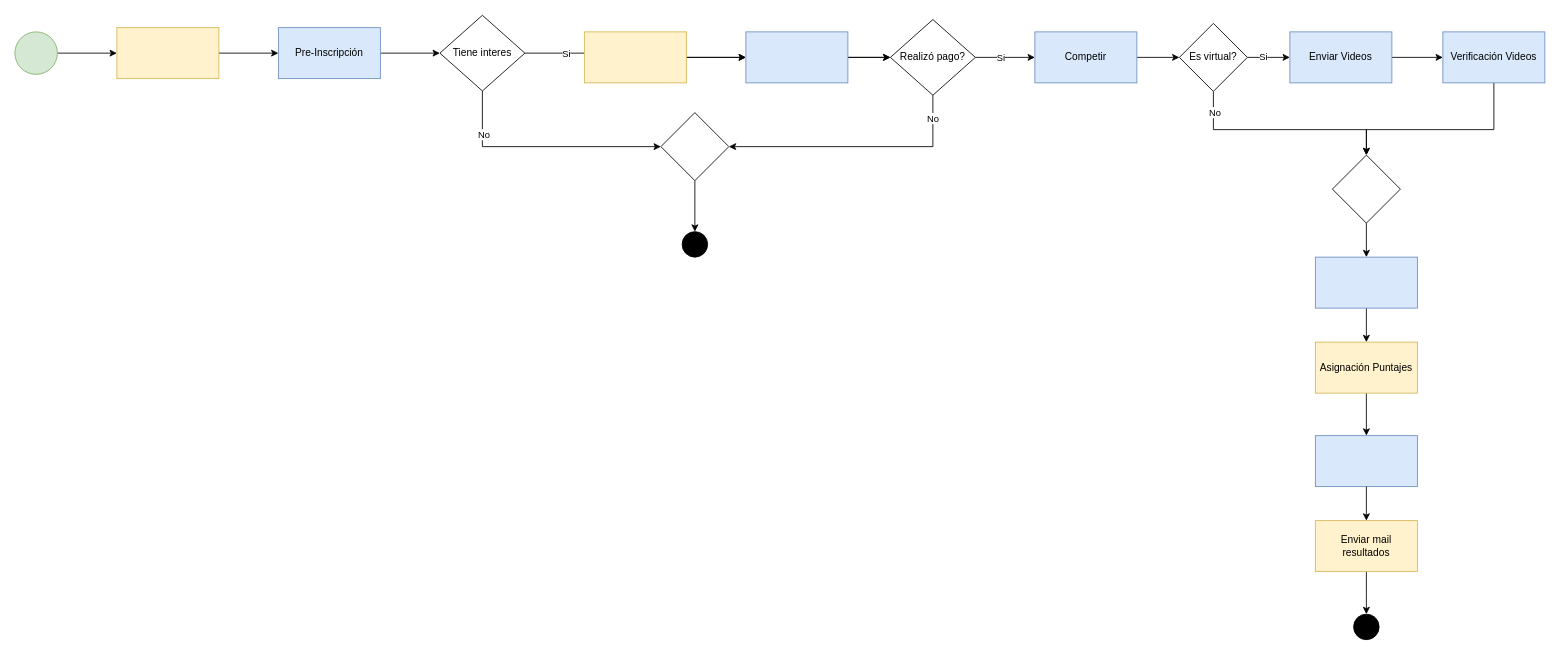
Some shapes in this 1560 by 655 pixel diagram are drawn without their labels. Here are the shapes that lost their labels. From the top down, the box of each, then its label:
(116, 27, 219, 79): Lanzamiento de competencia
(584, 31, 686, 83): Enviar Información
(745, 31, 848, 83): Inscripción
(1315, 256, 1417, 308): Puntuar
(1315, 435, 1417, 487): Entrega de premios
